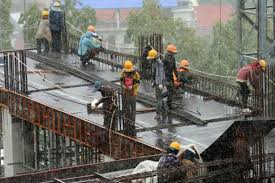hard hat: (169, 142, 180, 150), (258, 59, 266, 69), (124, 60, 132, 69), (167, 45, 177, 52), (180, 60, 189, 67), (87, 26, 95, 33)
